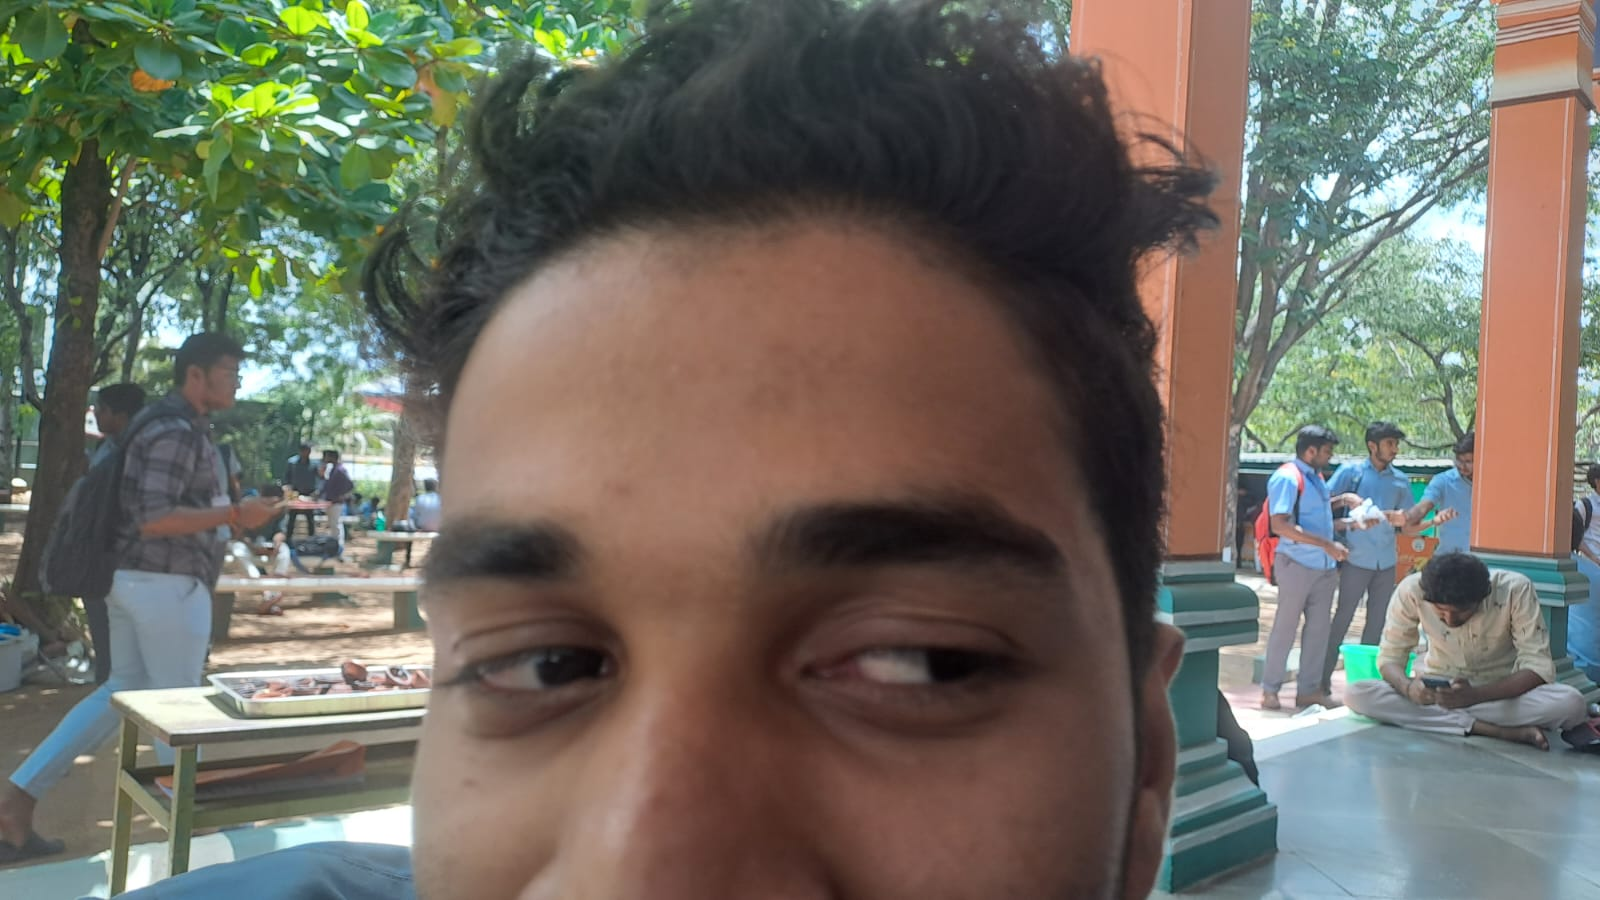EYE LEFT: (746, 495, 1126, 796), (331, 495, 699, 791)
